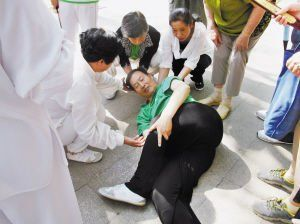10+: (1, 1, 300, 224)
down: (93, 65, 234, 224)
